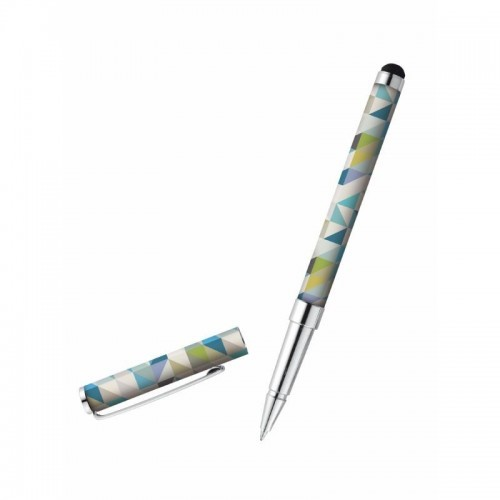Boligrafo: (257, 62, 408, 449)
